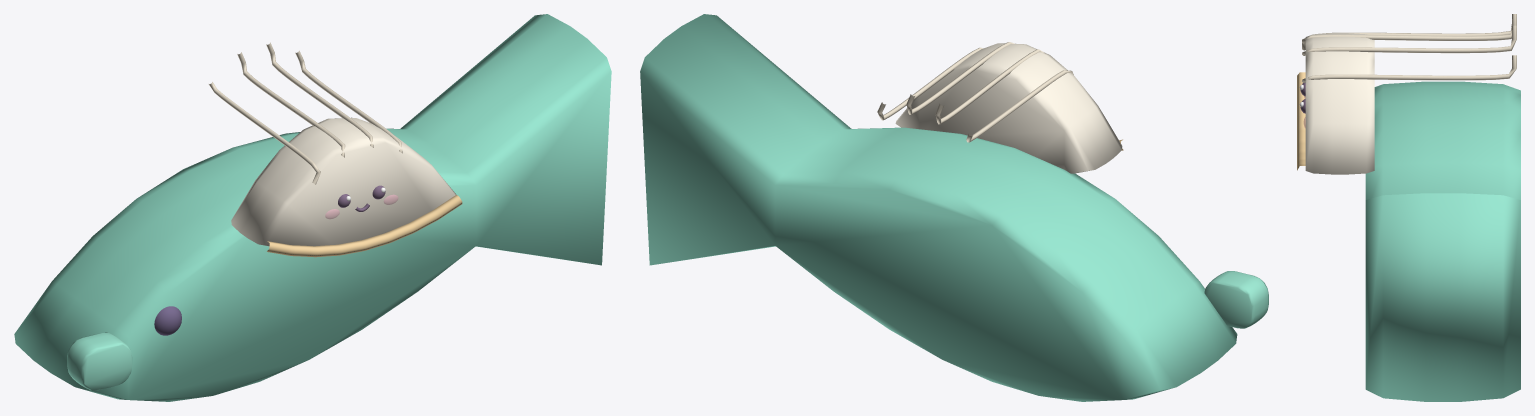
The model's file is decor_5_mint.glb.
3 views of the same model, side by side, from view 1: azimuth 30°, elevation 25°; view 2: azimuth 150°, elevation 25°; view 3: azimuth 270°, elevation 25° (orthographic).
Parts seen in each view (by area): view 1: decor_5_mint; view 2: decor_5_mint; view 3: decor_5_mint.
Boxes of the visible parts, x1,y1,x2,y2 form: decor_5_mint: (14, 14, 611, 401); decor_5_mint: (640, 14, 1268, 401); decor_5_mint: (1297, 14, 1520, 401).
Size of the model in its own units: 11.35 by 5.48 by 3.97.
